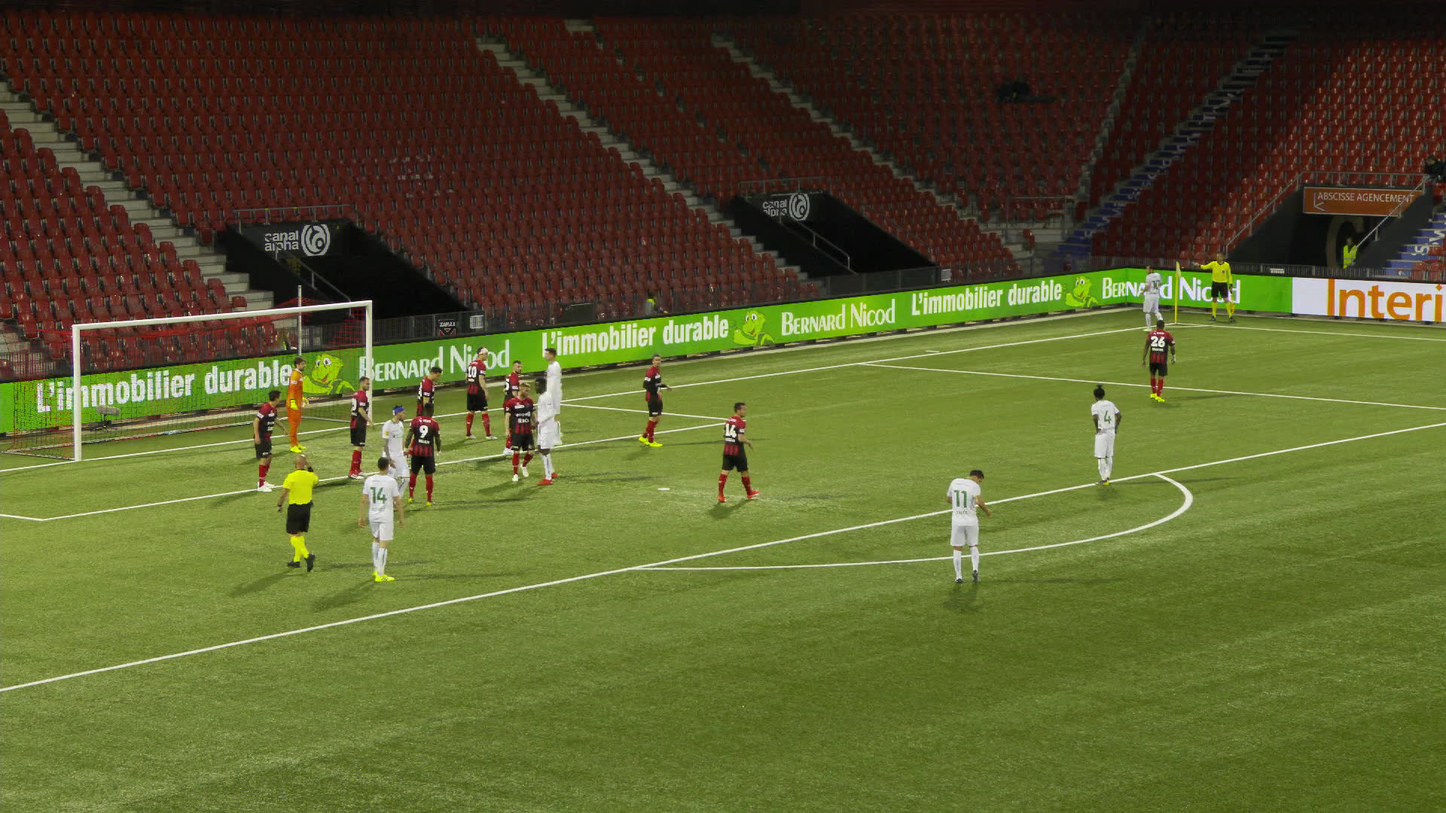player: (947, 469, 993, 583), (359, 456, 400, 582), (403, 402, 442, 507), (717, 400, 754, 501), (530, 378, 563, 485), (463, 346, 498, 440), (380, 405, 410, 513), (252, 388, 283, 492), (505, 381, 536, 481), (1091, 383, 1121, 486), (1141, 318, 1176, 402), (545, 348, 575, 444), (349, 376, 374, 479), (643, 353, 669, 446), (415, 367, 442, 453), (502, 359, 526, 453), (286, 358, 308, 452), (1140, 264, 1165, 331)
referee: (277, 455, 319, 571), (1191, 252, 1235, 324)
